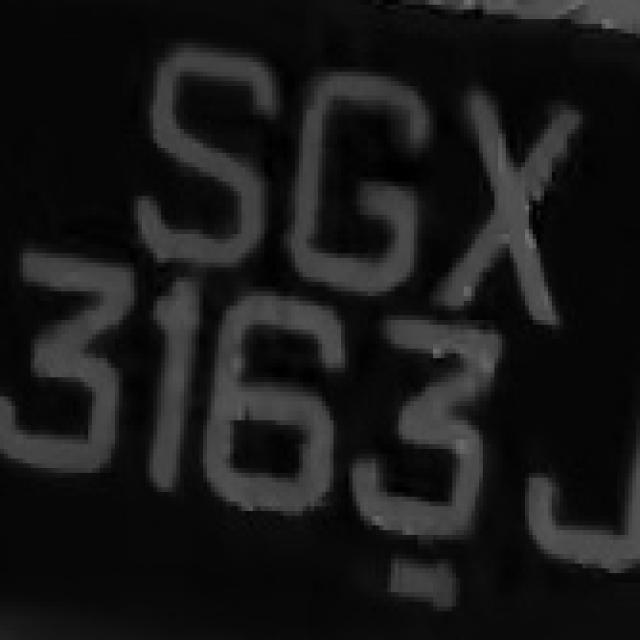1: (130, 254, 207, 526)
3: (364, 301, 506, 544), (15, 224, 123, 496)
6: (203, 267, 349, 535)
G: (292, 48, 448, 310)
S: (123, 19, 276, 282)
X: (441, 96, 590, 339)
